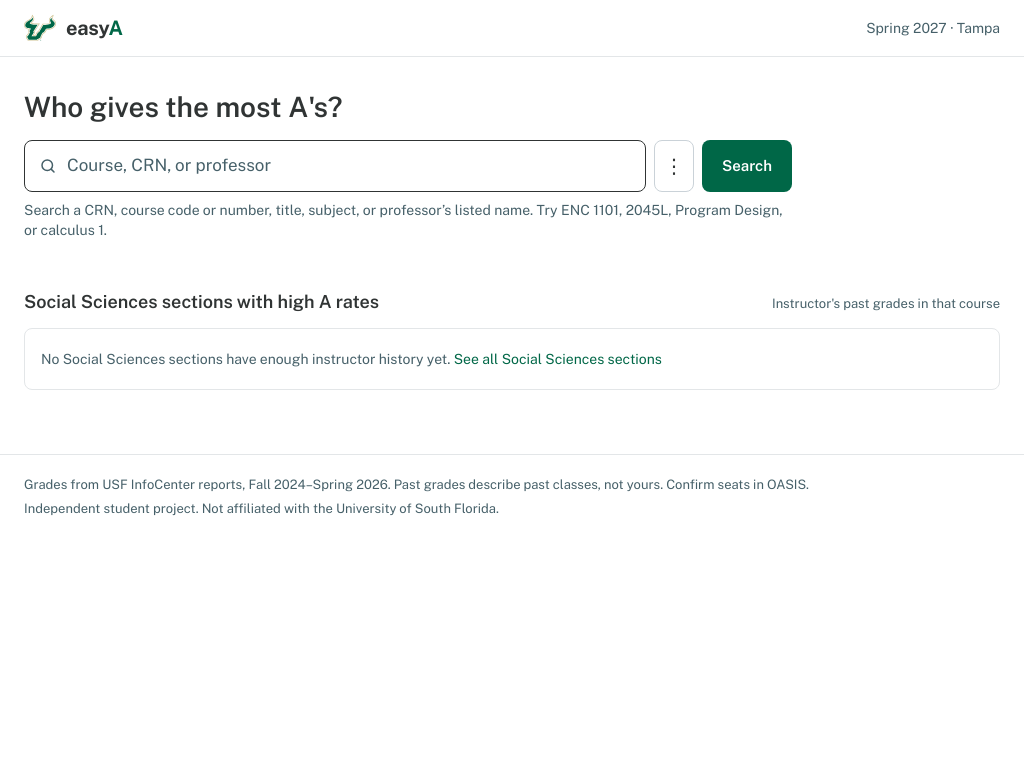
Test: home › searches from the landing page
Type "enc 1101" into the search field at (349, 166), box left=67, top=153, right=631, bottom=179
Then press Enter
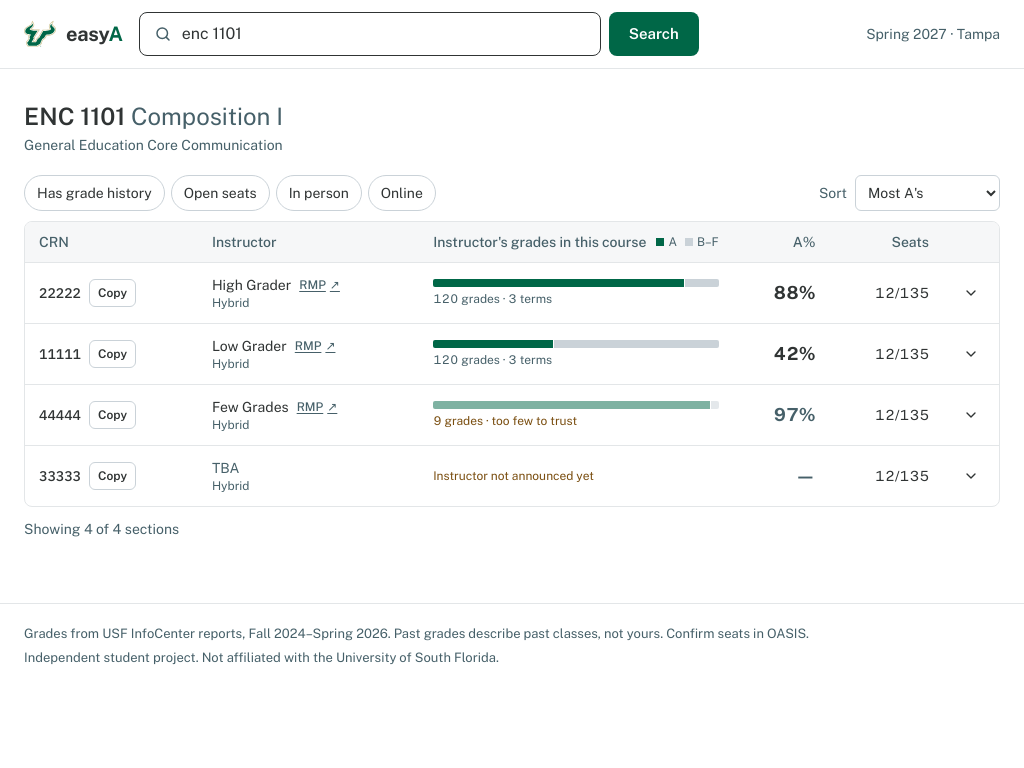
Expected: the heading "ENC 1101 Composition I" is shown, left=24, top=102, right=283, bottom=130
